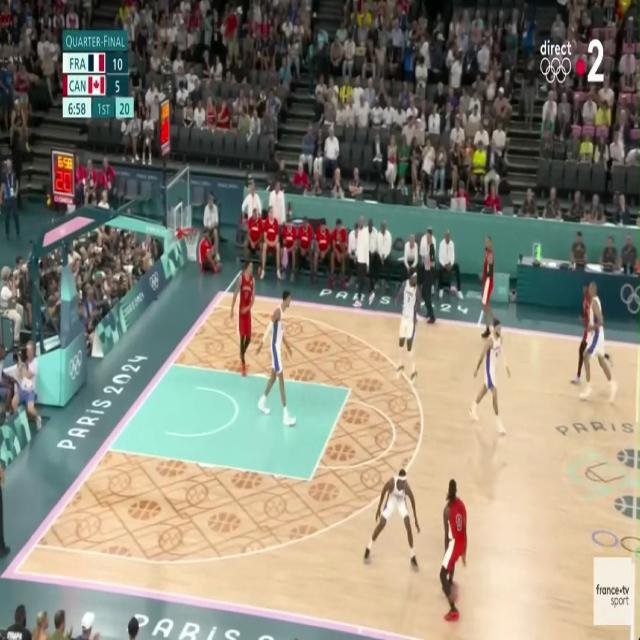ball_handler: (438, 477, 472, 628)
